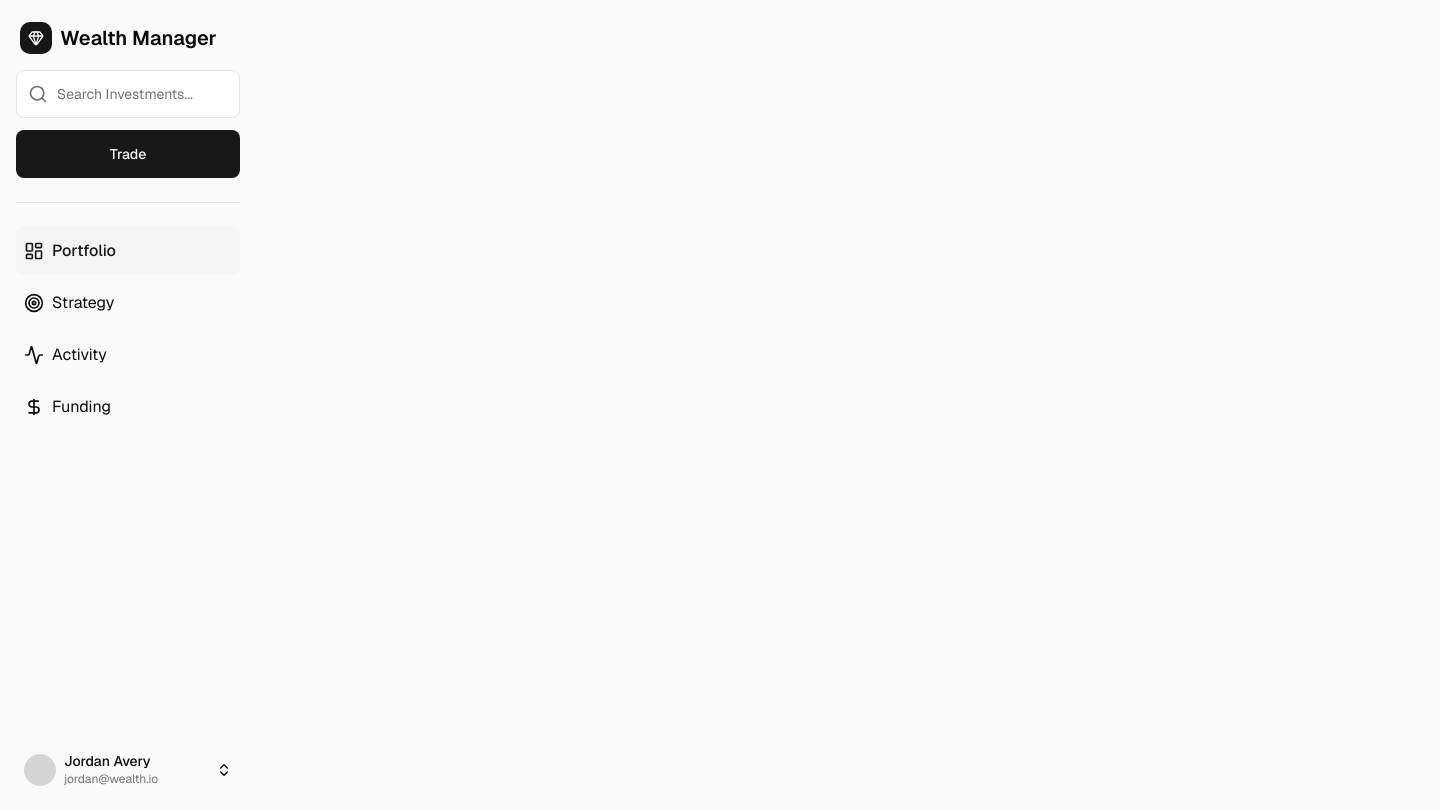
shows the failed unavailable state without an Order form
Click the button "Trade": {"x": 128, "y": 154} x1=16 y1=130 x2=240 y2=178
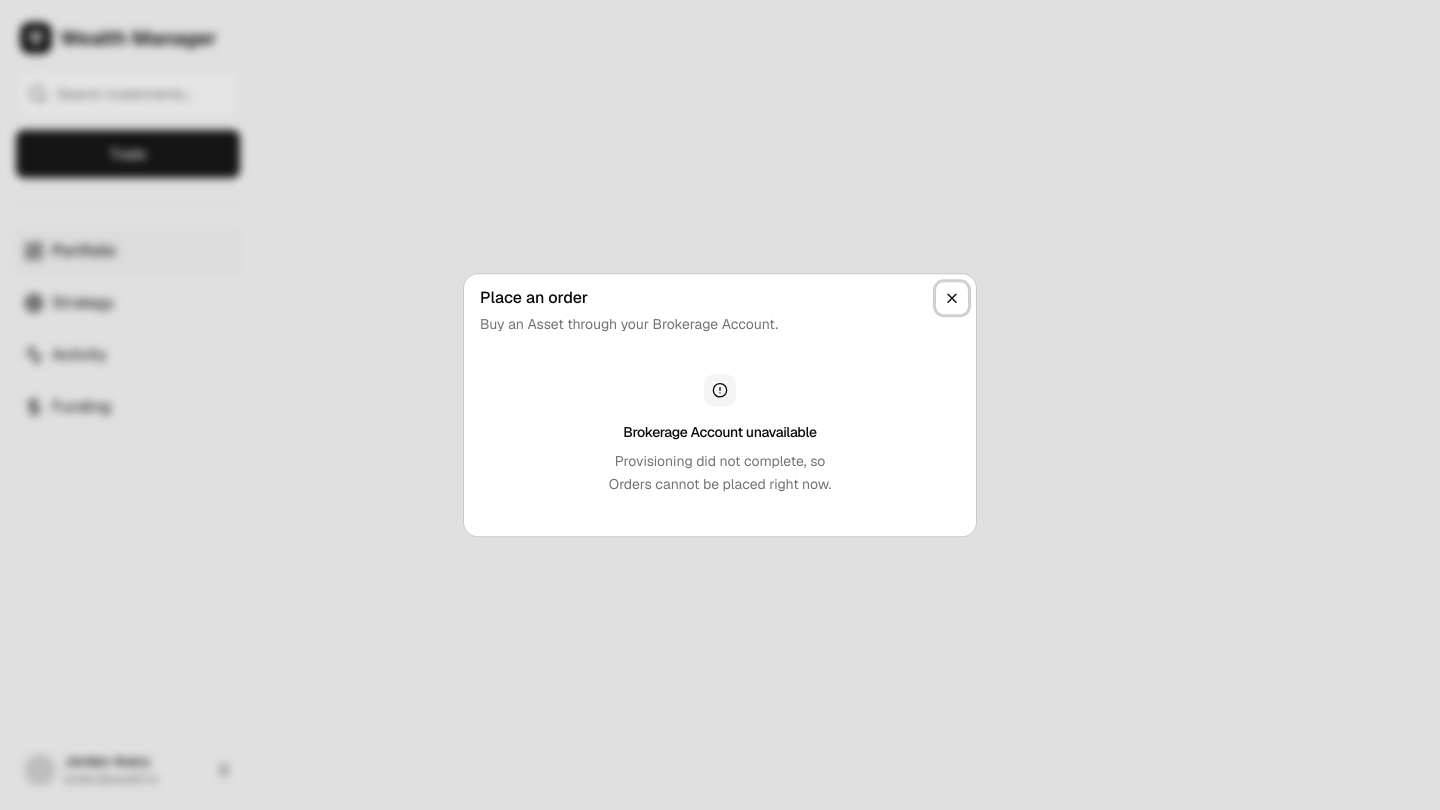
Now the heading "Brokerage Account unavailable" is shown, box x1=623 y1=422 x2=817 y2=442
